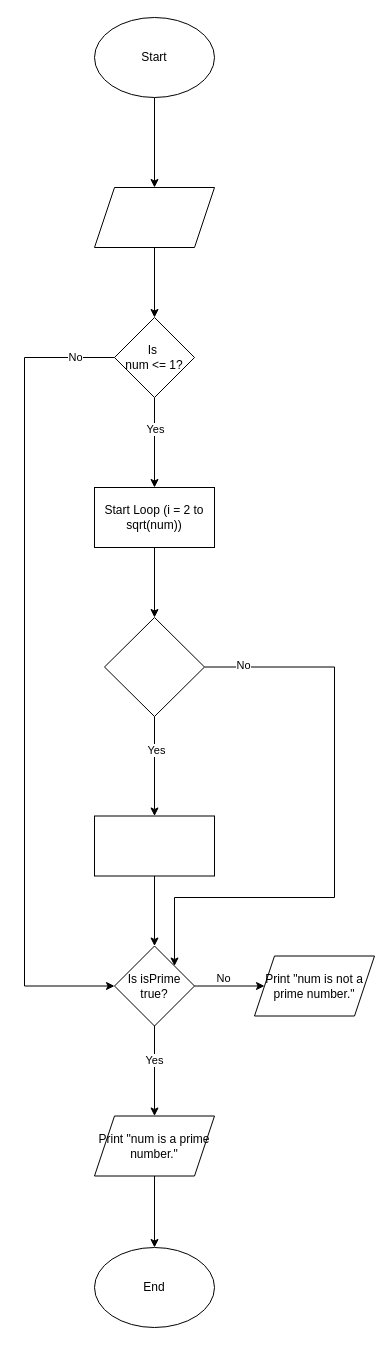
Some shapes in this 392 by 1345 pixel diagram are drawn without their labels. The centre of each missing label's shape, as x and y in pixels:
"End Loop (After checking up to sqrt(num))" goes at point 154,845.
"Enter a number" goes at point 154,217.
"Is num % i == 0?" goes at point 154,666.
